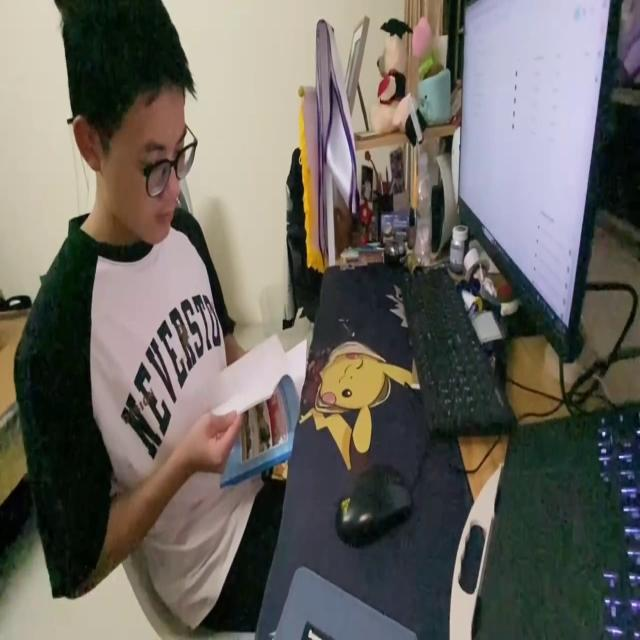book: (211, 334, 306, 490)
laptop: (453, 4, 623, 364)
student: (14, 0, 290, 640)
